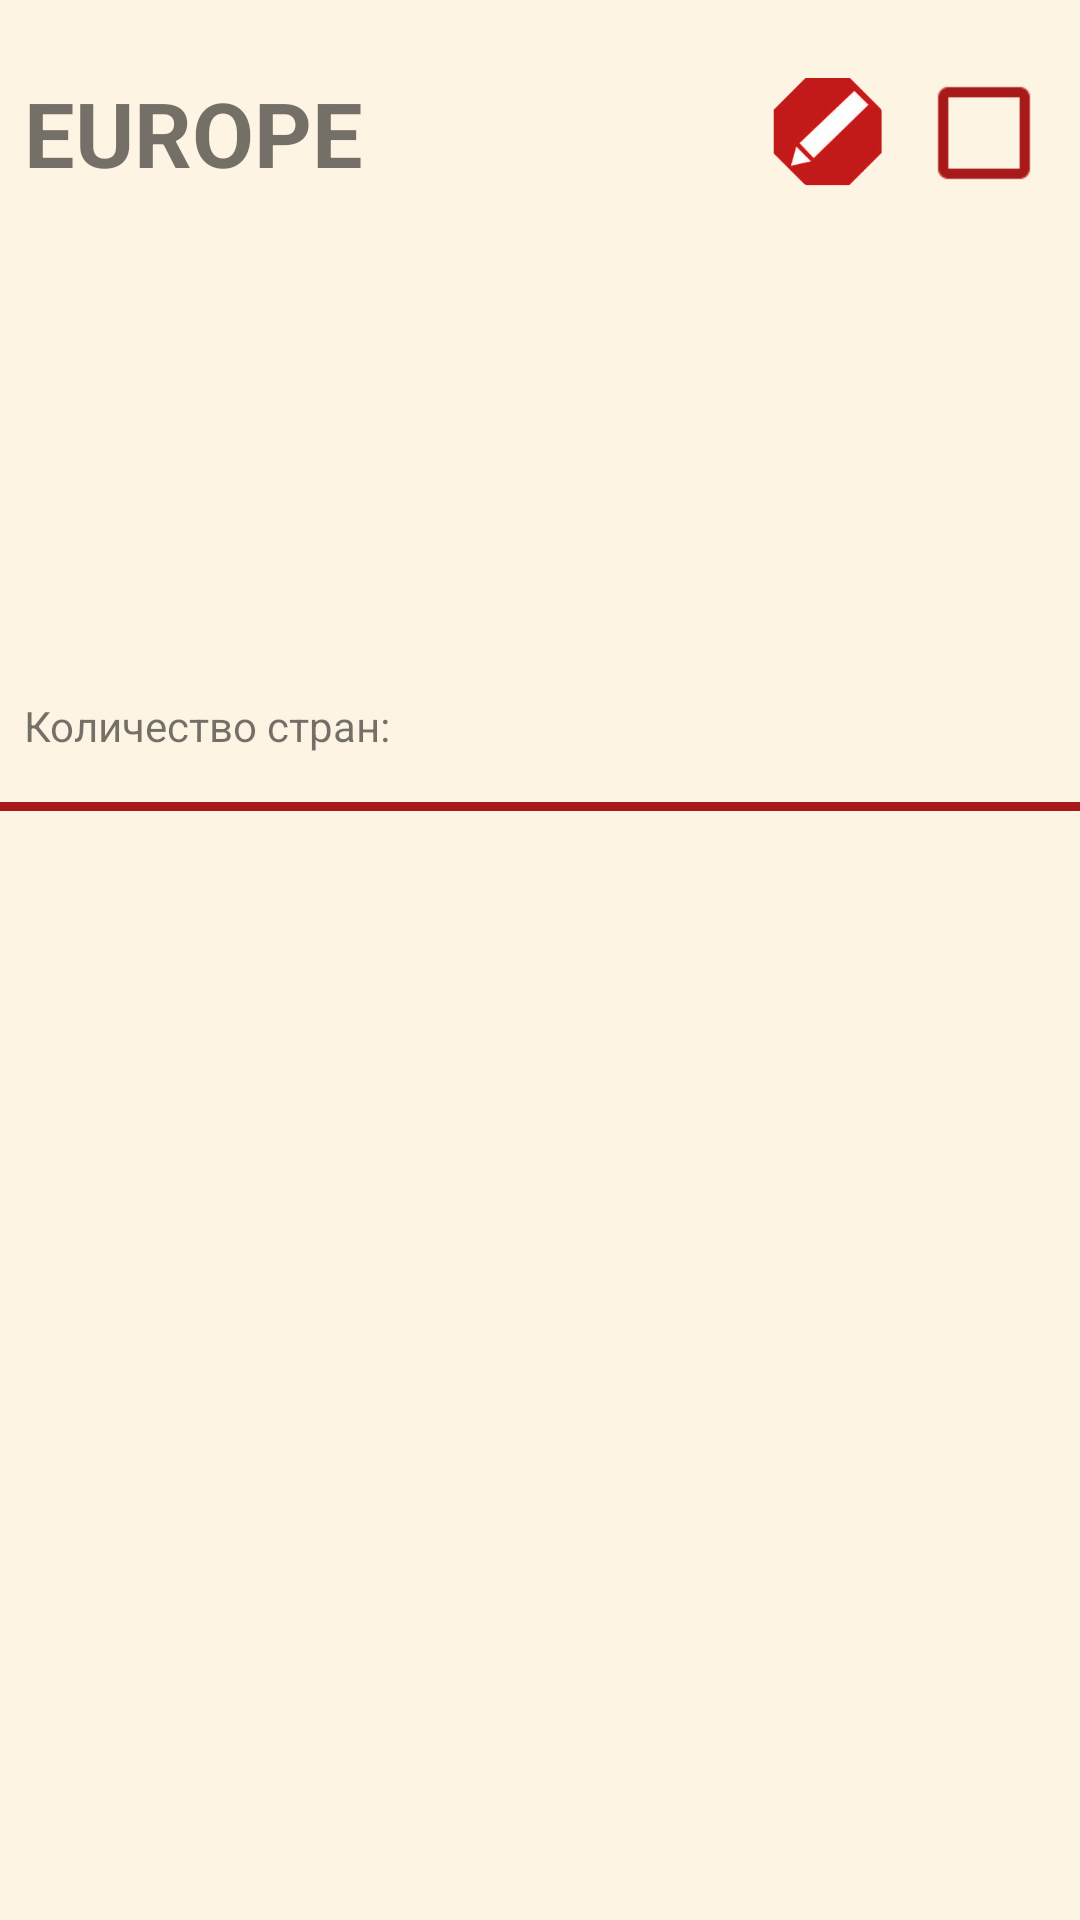

Named icons in this screenshot (1080w x 1920h) and their centers, (x,y):
awe edit: (827,132)
